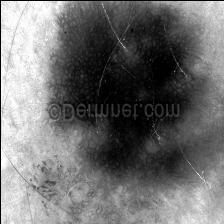Potentially Malignant Skin Tumors: (38, 0, 212, 100), (55, 124, 200, 190)
